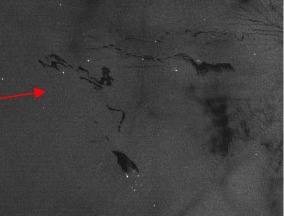anomaly: (82, 68, 155, 192)
